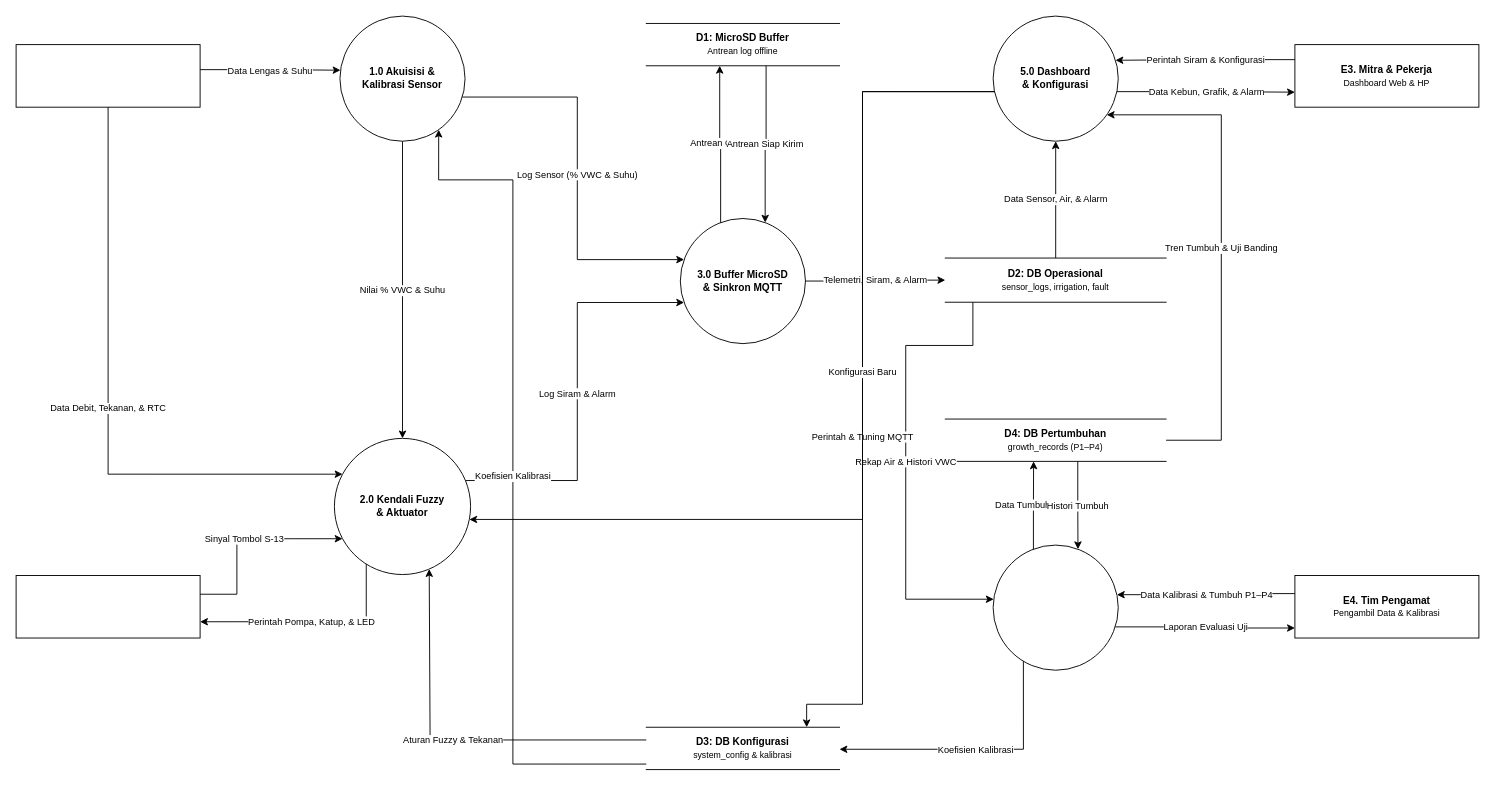
Image size: 1495x788. Some labels were removed from this diagram. The centre of each missing label's shape, as x and y in pixels:
4.0 Olah Data Uji & Tumbuh P1–P4: pixel 1055 607
E1. Sensor & RTC Lengas, Suhu, Flow, Tekanan, RTC: pixel 107 75
E2. Tombol S-13 & Aktuator S-13, Pompa, V1–V4, VF, LED: pixel 107 606
